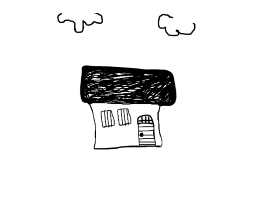closed_window: (98, 108, 116, 131), (116, 107, 133, 127)
clouds: (51, 6, 110, 40), (152, 8, 200, 45)
door: (135, 113, 159, 152)
shaded_roof: (75, 63, 180, 107)
small_house: (1, 0, 260, 203)
wall: (87, 97, 166, 153)
